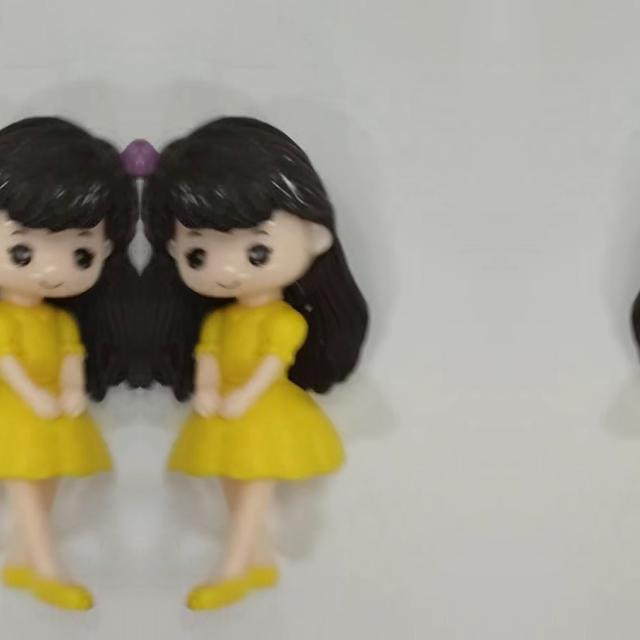woman dress: (164, 306, 352, 487), (0, 305, 116, 486)
woman head: (142, 110, 346, 306), (0, 110, 138, 305)
